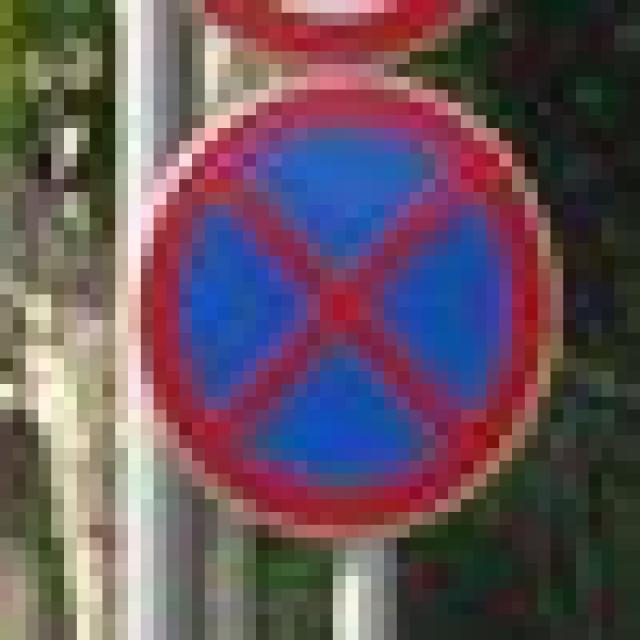no stopping or standing: (114, 71, 573, 548)
